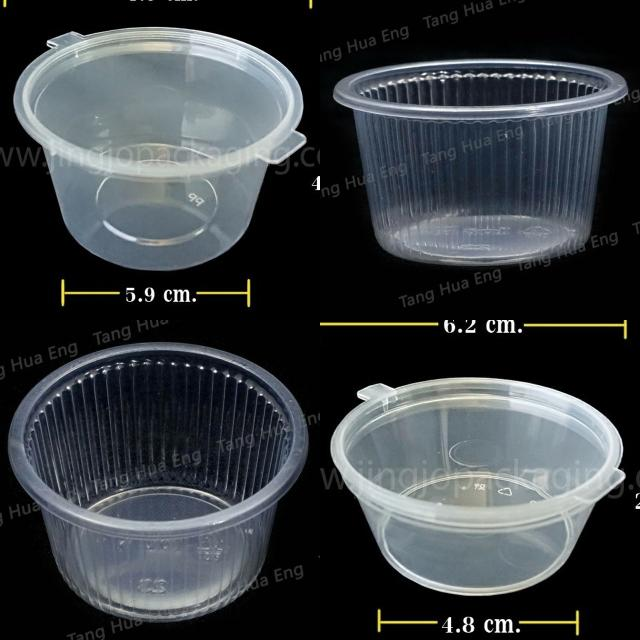Single-Use-Plastic: (9, 344, 308, 621), (14, 28, 305, 270), (331, 379, 624, 595), (334, 60, 628, 265)
